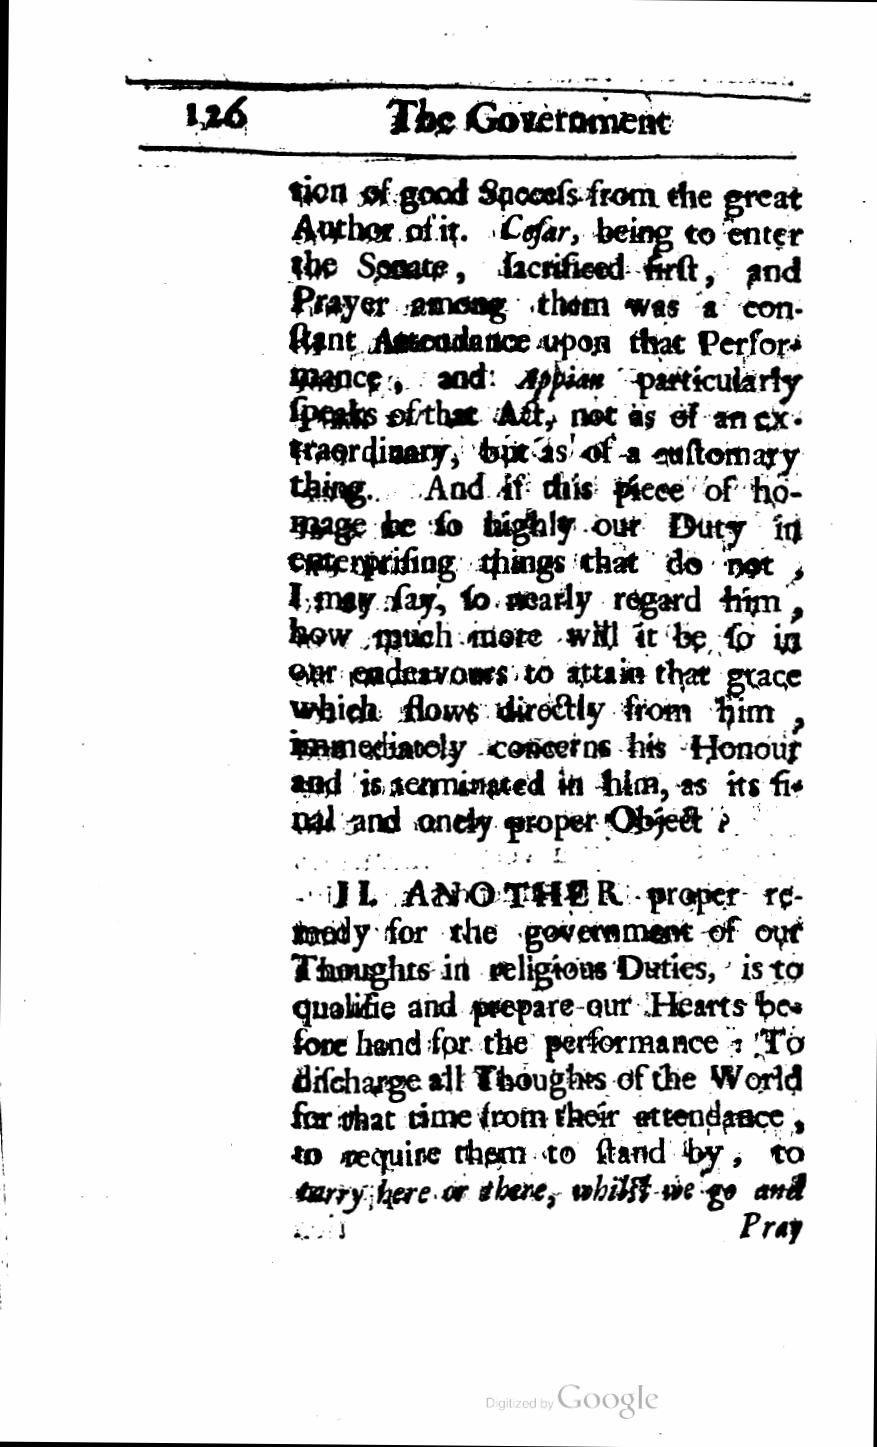bottom_p: (284, 168, 810, 842)
catchword: (738, 1204, 806, 1248)
header: (382, 92, 680, 146)
page_num: (180, 90, 254, 140)
top_p: (290, 874, 806, 1212)
